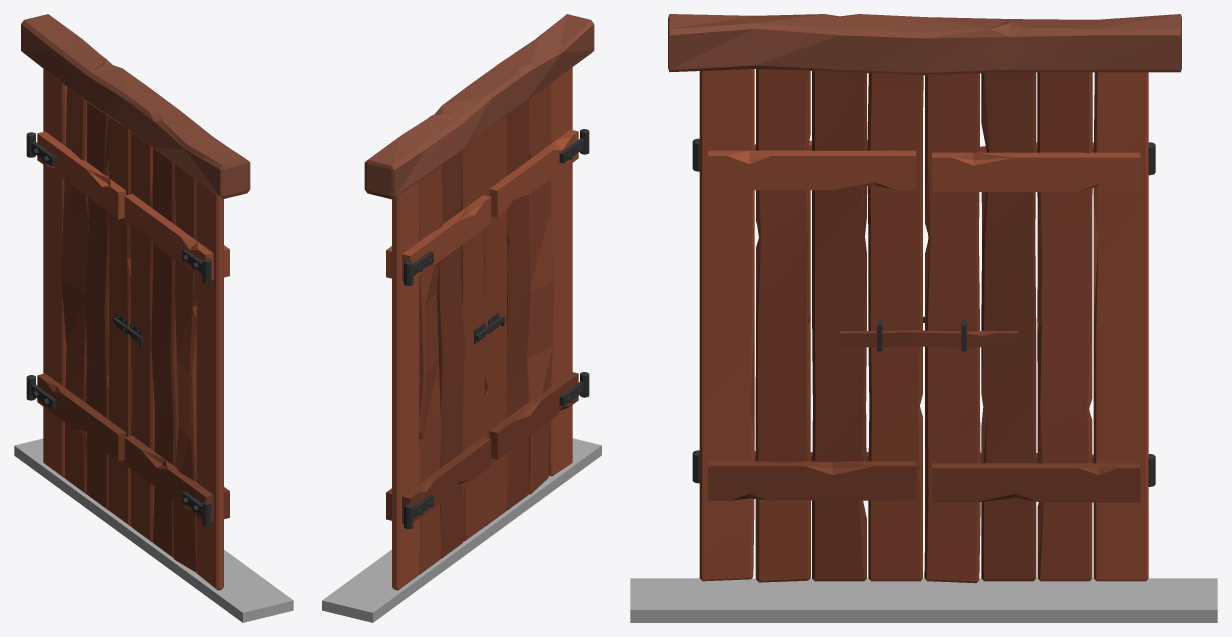
File: stable door.fbx
The picture shows the model from 3 angles, left to right: view 1: azimuth 30°, elevation 25°; view 2: azimuth 150°, elevation 25°; view 3: azimuth 270°, elevation 25°; orthographic projection. The views are drawn at different scales.
Visible parts, largest first — view 1: anta_sx, anta_dx, Trave, scalino; view 2: anta_dx, anta_sx, Trave, scalino; view 3: anta_dx, anta_sx, Trave, scalino, traversa1.
Boxes of the visible parts, bbox=[...] form: anta_sx: bbox=[124, 131, 229, 590]; anta_dx: bbox=[26, 69, 131, 526]; Trave: bbox=[21, 14, 250, 199]; scalino: bbox=[14, 438, 293, 622]; anta_dx: bbox=[386, 131, 491, 590]; anta_sx: bbox=[484, 67, 589, 526]; Trave: bbox=[364, 14, 594, 199]; scalino: bbox=[322, 438, 601, 622]; anta_dx: bbox=[924, 72, 1155, 583]; anta_sx: bbox=[692, 69, 924, 582]; Trave: bbox=[668, 14, 1181, 75]; scalino: bbox=[630, 578, 1217, 622]; traversa1: bbox=[840, 330, 1018, 347].
Bounding box in the file's own units: 39.08 × 255 × 236.
